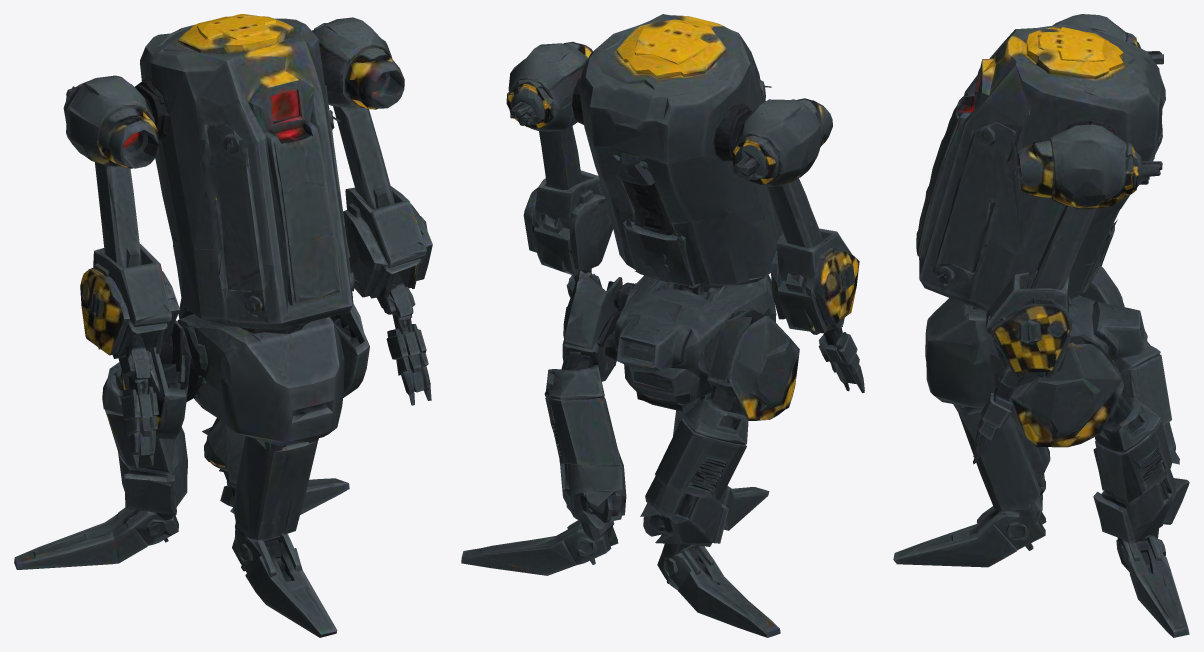
The model's file is sentry.glb.
3 views of the same model, side by side, from view 1: azimuth 30°, elevation 25°; view 2: azimuth 150°, elevation 25°; view 3: azimuth 270°, elevation 25° (orthographic). The views are drawn at different scales.
Size of the model in its own units: 1.21 by 1.9 by 0.9787.
1 material, 1 textured.
